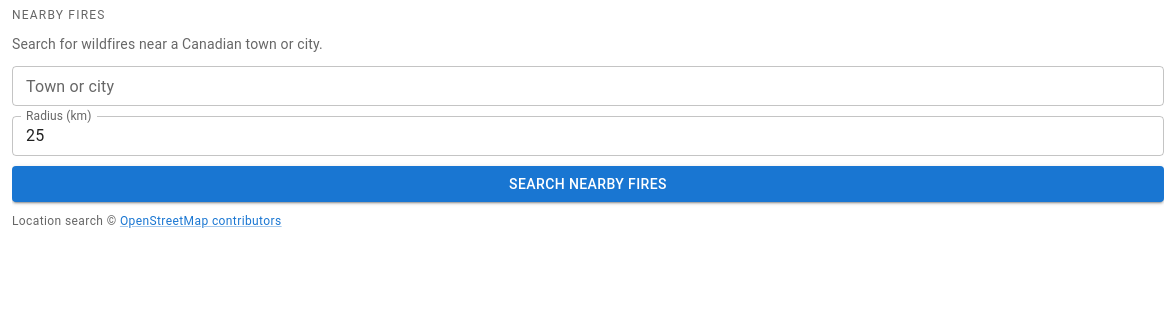
it: NearbyWildfireSearch › shows a specific message when no wildfires are found nearby
Type "Ottawa" into the field labelled "Town or city".
click(588, 86); type("Ottawa")  # box [12,66,1164,106]
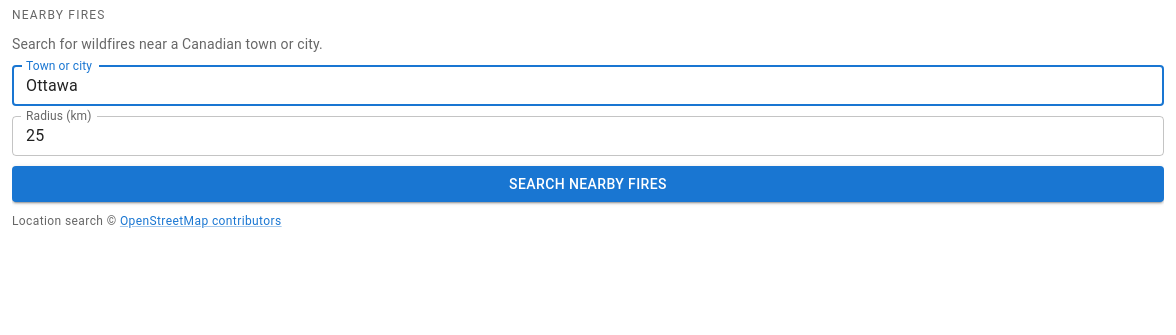
Click the button "Search nearby fires".
click(588, 184)  # box [12,166,1164,202]
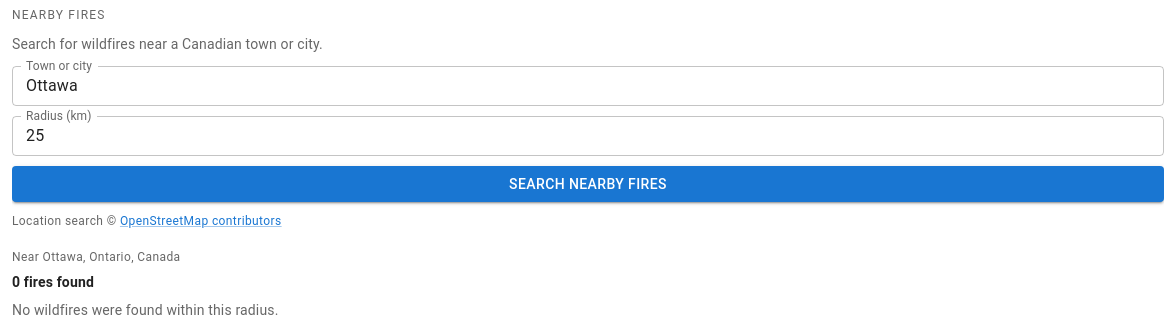
Check: the text "No wildfires were found within this radius." is shown, box [12,302,278,318]
